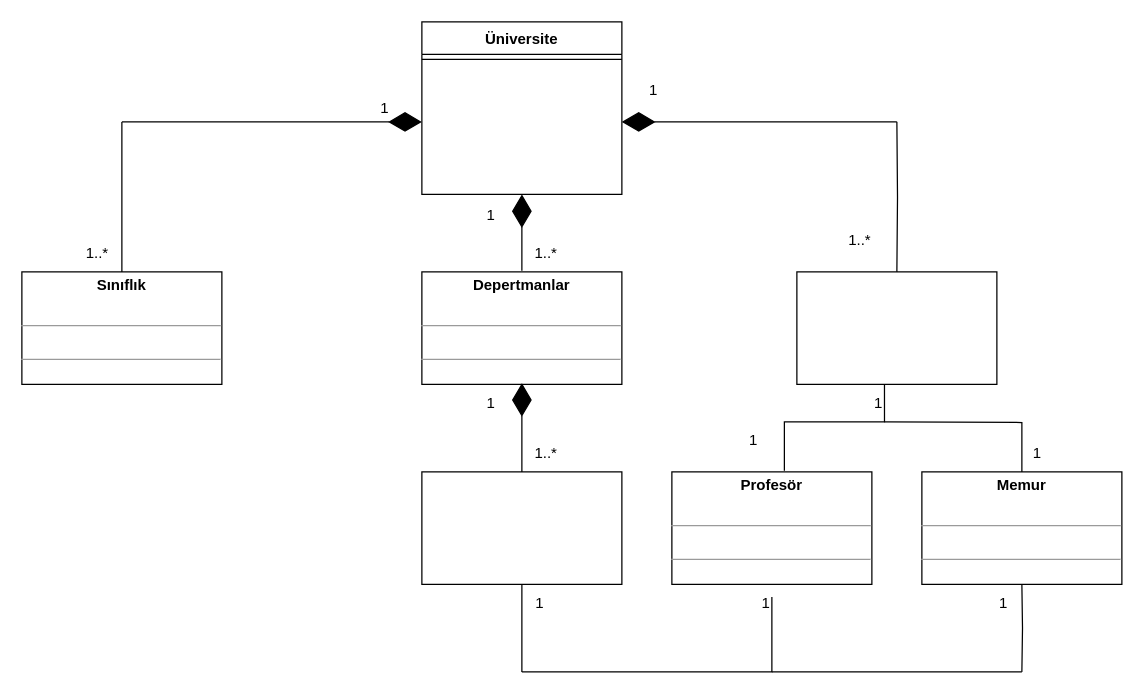
The diagram is 1144 pixels wide and 695 high, and some of its shapes have lost their labels. The centre of each missing label's shape, as x and y in pixels:
"Çalışanlar" belongs at point (896, 327).
"Çalışma Ofisleri" belongs at point (521, 527).
